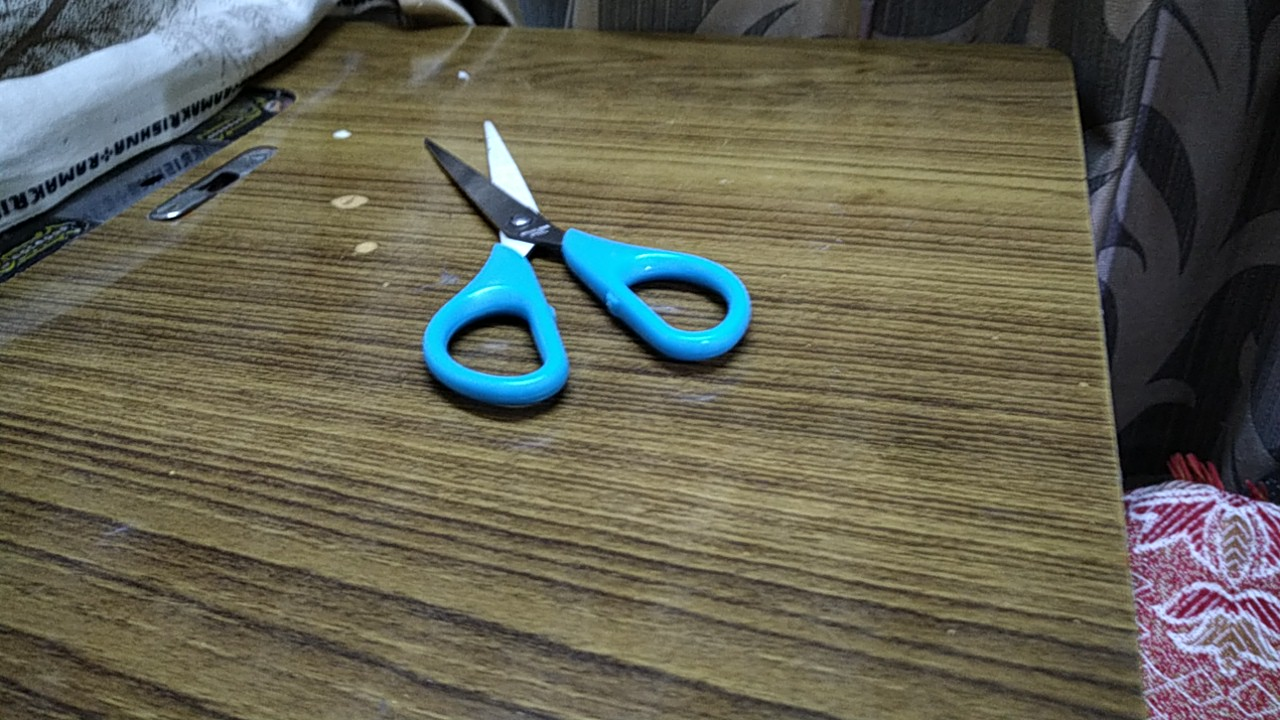scissor: (401, 108, 771, 428)
